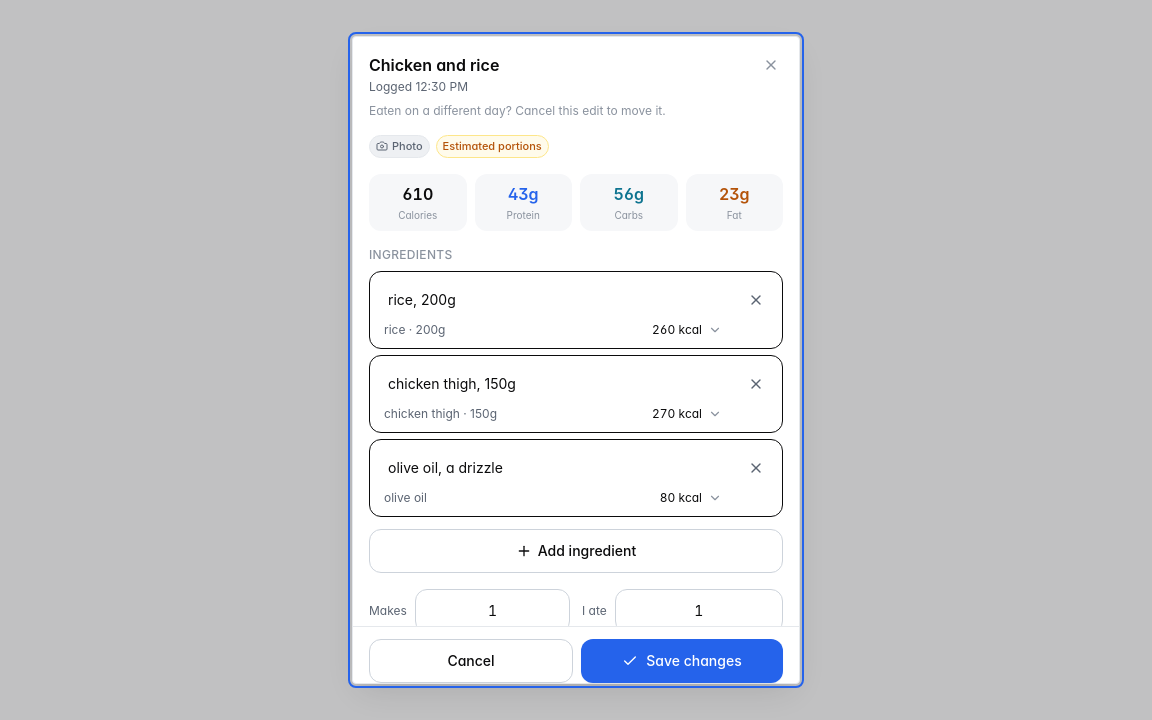
Test: MealDetailSheet — moving a meal to another day › keeps the move out of reach while portions are being edited
The width and height of the screenshot is (1152, 720).
expect the text "Day eaten" is not shown: met
Step 1. Click the button "Cancel" → (471, 661), box [369,639,573,683]
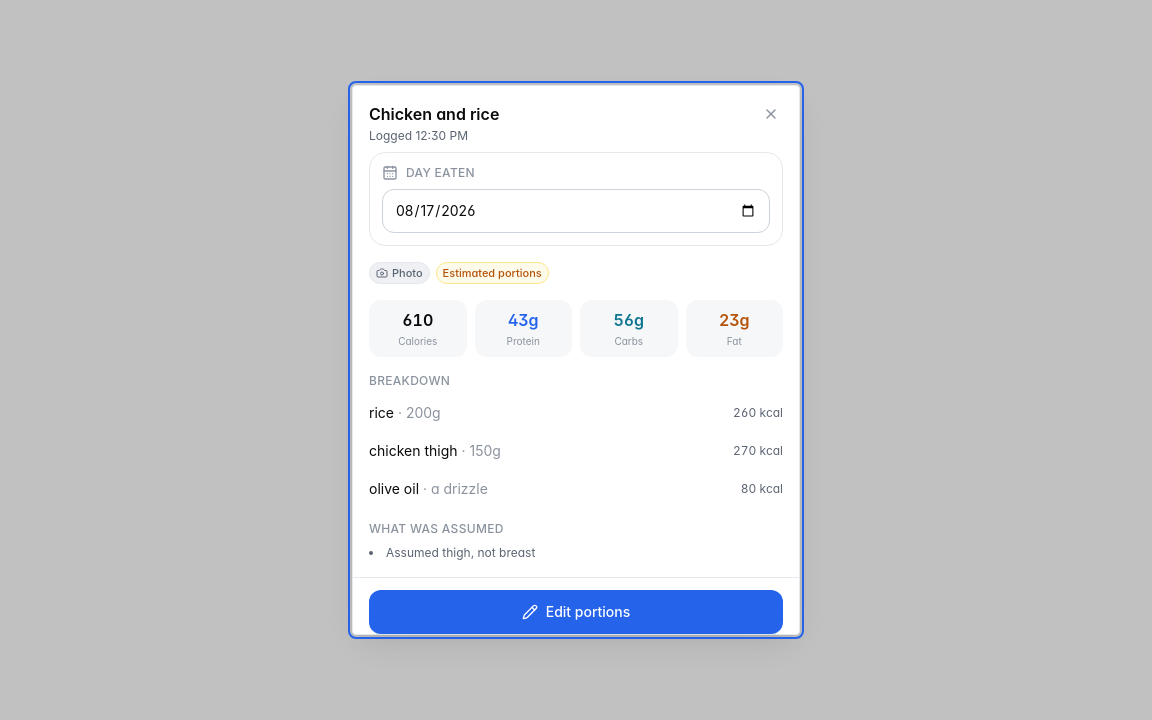
expect the text "Day eaten" is shown: met, box [406,165,475,181]
